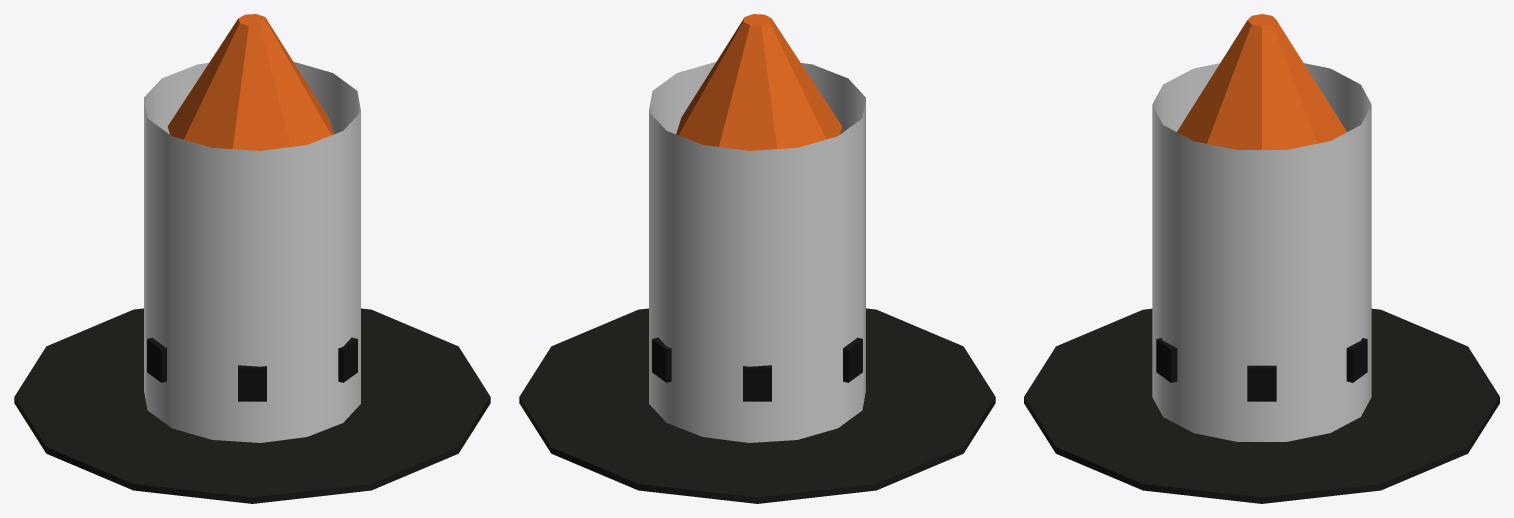
The model's file is fire-barrel.glb.
3 views of the same model, side by side, from view 1: azimuth 30°, elevation 25°; view 2: azimuth 150°, elevation 25°; view 3: azimuth 270°, elevation 25° (orthographic).
Visible parts, largest first — view 1: Piece_lod0; view 2: Piece_lod0; view 3: Piece_lod0.
Part boxes in pixels (box(x1,y1,x2,y2)): Piece_lod0: box(14, 14, 490, 503); Piece_lod0: box(519, 14, 995, 503); Piece_lod0: box(1024, 14, 1499, 503).
Size of what is drawn, in the model's own units: 1.3 by 1.15 by 1.3.
